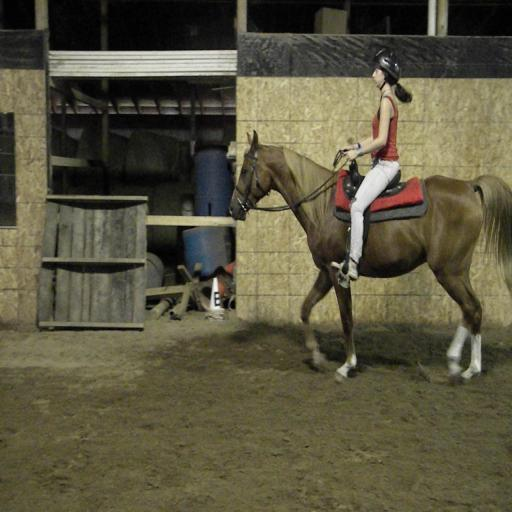horse: (230, 130, 512, 382)
